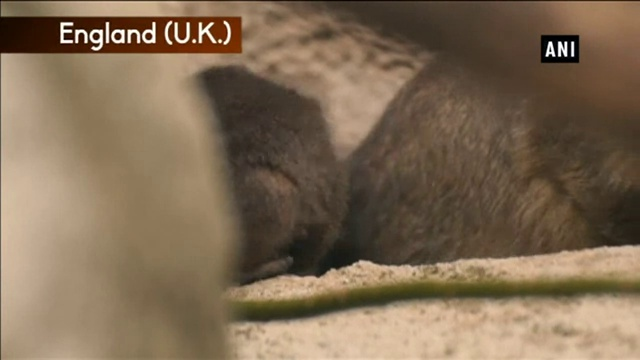Rock Hyrex: (342, 40, 640, 267), (164, 66, 353, 285)
